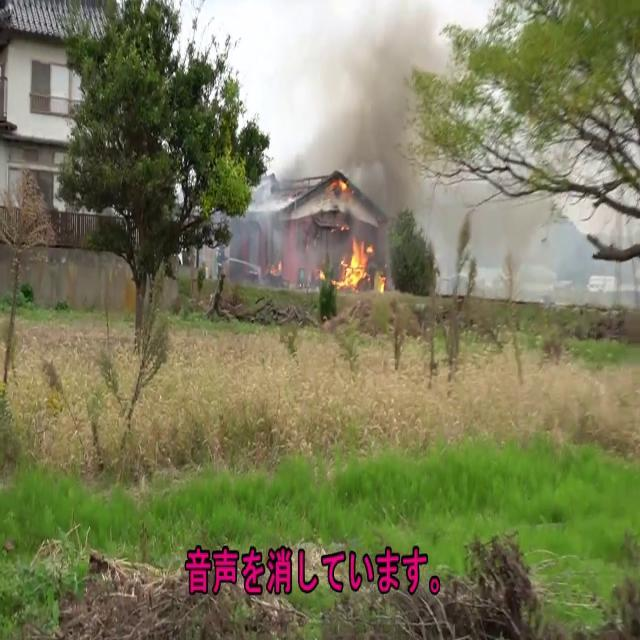Fire: (334, 227, 381, 293)
Smoke: (264, 0, 454, 233)
